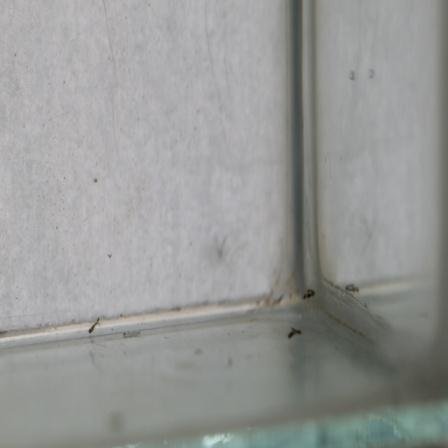Jentik-Nyamuk: (285, 323, 305, 343), (300, 284, 318, 304), (86, 313, 102, 335)
